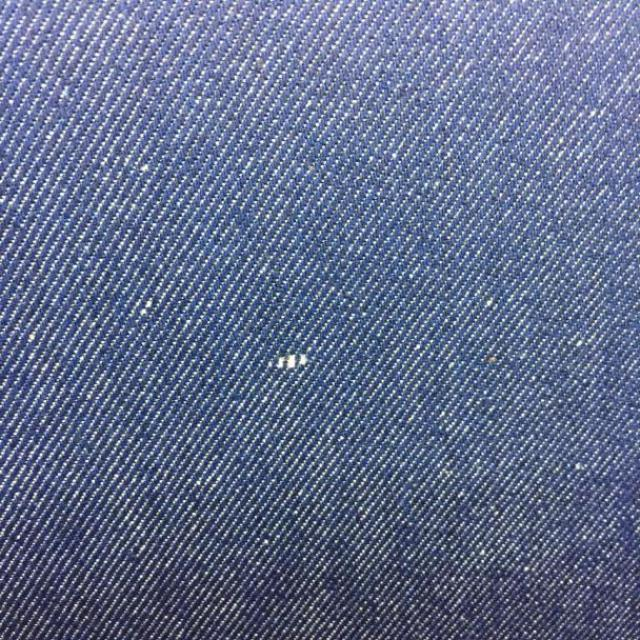Knot: (275, 356, 309, 370)
